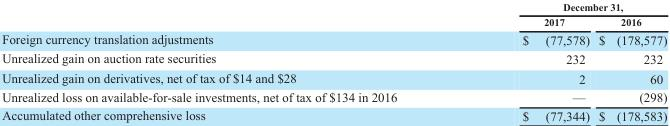table: (1, 0, 666, 123)
table column: (1, 0, 459, 123), (459, 0, 593, 123), (593, 0, 666, 123)
table column header: (1, 0, 666, 29)
table row: (1, 48, 666, 68), (1, 29, 666, 48), (1, 68, 666, 87), (1, 87, 666, 105), (1, 105, 666, 123), (1, 14, 666, 29), (1, 0, 666, 14)
table spanning cell: (459, 0, 666, 14)
